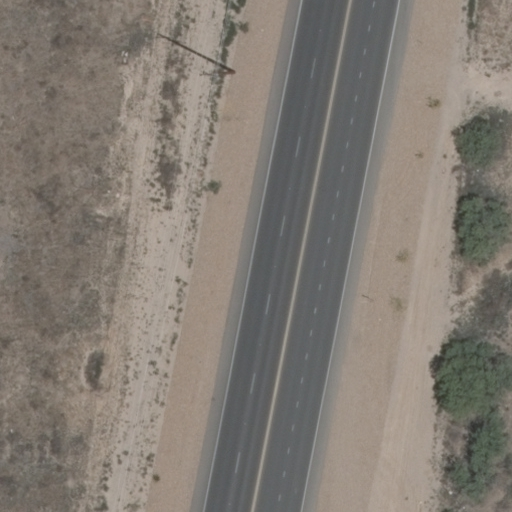DT: (197, 58, 239, 79)
